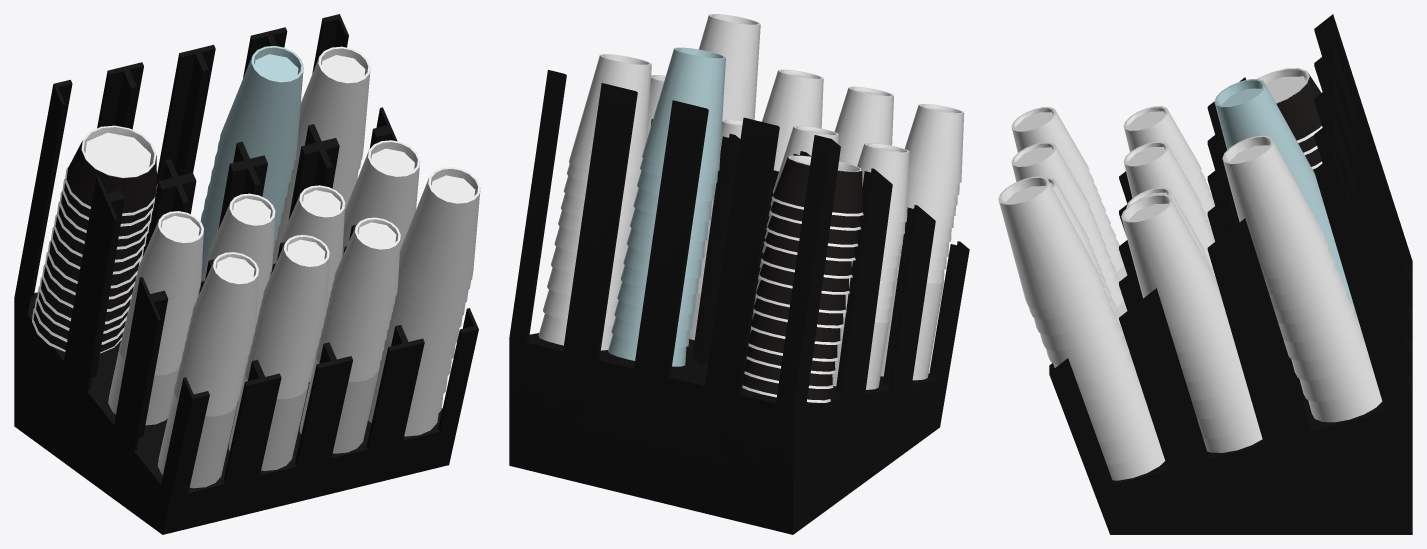
File: LC_3015_CafecupDispenser_LOD3.FBX
3 renders of one model, left to right at view 1: azimuth 30°, elevation 25°; view 2: azimuth 150°, elevation 25°; view 3: azimuth 270°, elevation 25°, orthographic. The views are drawn at different scales.
Visible parts, largest first — view 1: LC_3015_CafecupDispenser_LOD3; view 2: LC_3015_CafecupDispenser_LOD3; view 3: LC_3015_CafecupDispenser_LOD3.
Part boxes in pixels (x1=…): LC_3015_CafecupDispenser_LOD3: x1=14, y1=14, x2=480, y2=534; LC_3015_CafecupDispenser_LOD3: x1=509, y1=14, x2=969, y2=534; LC_3015_CafecupDispenser_LOD3: x1=998, y1=14, x2=1412, y2=534.
Size of the model in its own units: 30.45 by 38.82 by 36.76.
Materials: 1 (1 with a texture image).
